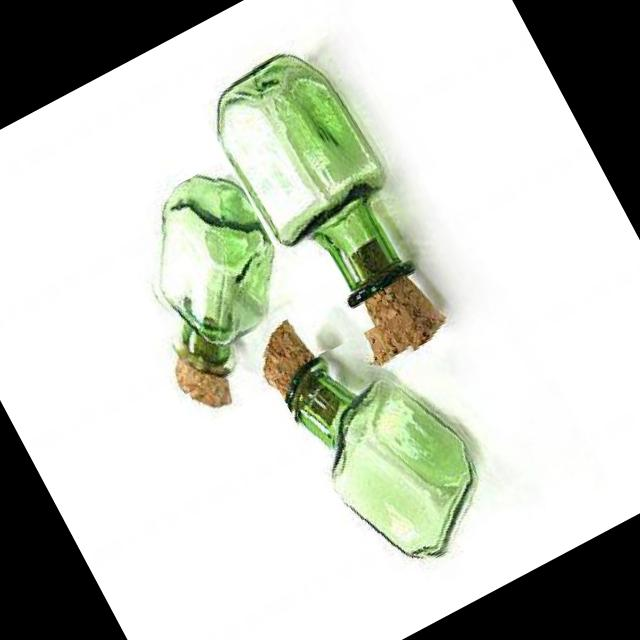Glass: (192, 29, 438, 328), (273, 310, 514, 586), (108, 156, 320, 393)
